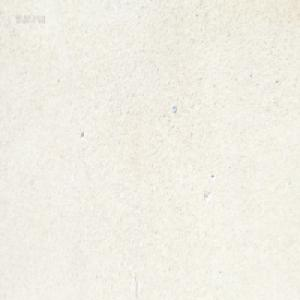Washer: (172, 104, 176, 113)
